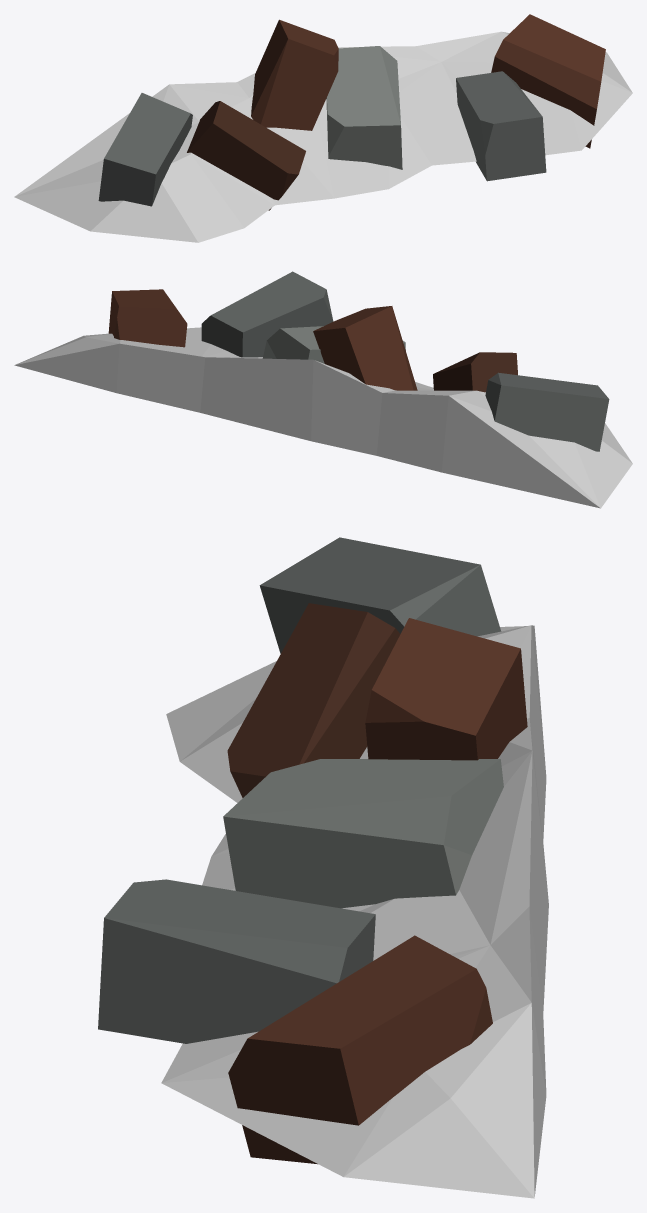
Rendered from SM_Prop_Debris_Straight_Short_01.fbx.
The picture shows the model from 3 angles, top to bottom: view 1: azimuth 30°, elevation 25°; view 2: azimuth 150°, elevation 25°; view 3: azimuth 270°, elevation 25°; orthographic projection. The views are drawn at different scales.
Parts seen in each view (by area): view 1: SM_Prop_Debris_Straight_Short_01; view 2: SM_Prop_Debris_Straight_Short_01; view 3: SM_Prop_Debris_Straight_Short_01.
Part boxes in pixels (left/top/right/bottom): SM_Prop_Debris_Straight_Short_01: left=14, top=14, right=632, bottom=242; SM_Prop_Debris_Straight_Short_01: left=14, top=271, right=632, bottom=508; SM_Prop_Debris_Straight_Short_01: left=98, top=537, right=548, bottom=1198.
Size of the model in its own units: 139 by 32.39 by 46.24.
